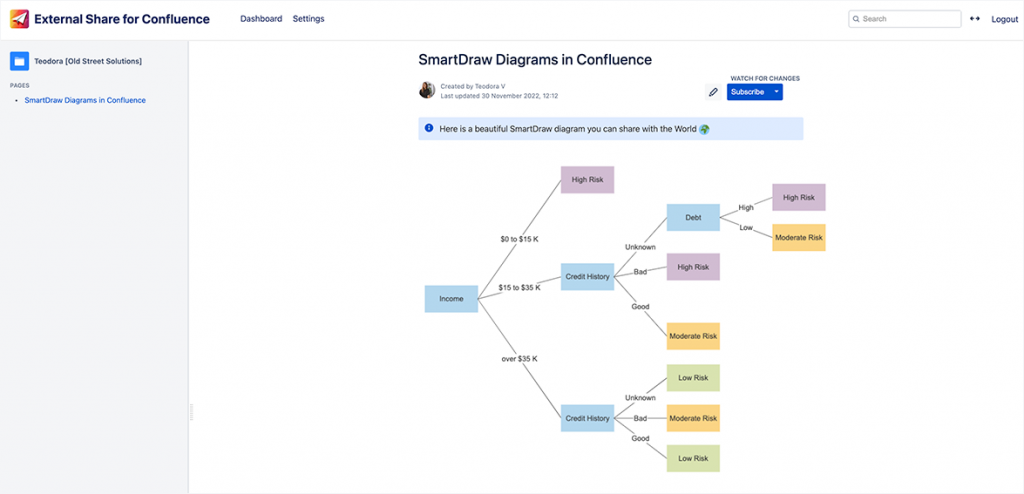search_box: (849, 8, 964, 30)
